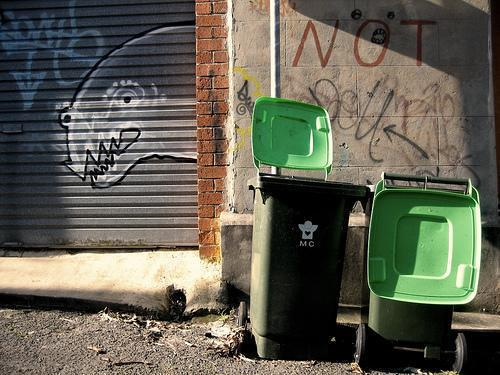Bote de Basura: (253, 102, 357, 359), (355, 167, 474, 374)
